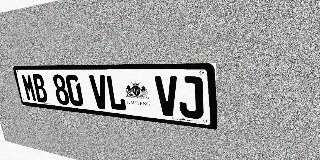0: (65, 74, 84, 107)
8: (52, 74, 70, 105)
B: (31, 74, 49, 103)
J: (178, 76, 204, 120)
L: (105, 75, 127, 111)
M: (21, 74, 37, 102)
V: (155, 76, 179, 117), (89, 75, 110, 110)
